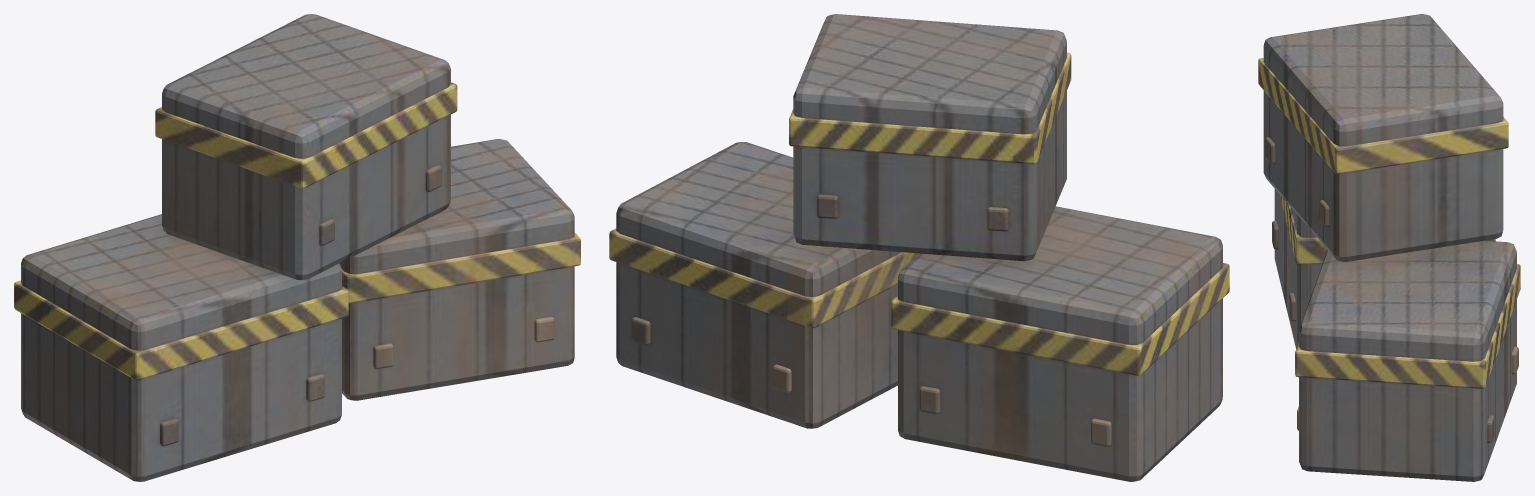
Rendered from crates.glb.
3 renders of one model, left to right at view 1: azimuth 30°, elevation 25°; view 2: azimuth 150°, elevation 25°; view 3: azimuth 270°, elevation 25°, orthographic. The views are drawn at different scales.
Parts seen in each view (by area): view 1: crates; view 2: crates; view 3: crates.
Part boxes in pixels (x1,y1,x2,y2): crates: (14,14,580,481); crates: (609,14,1229,481); crates: (1258,14,1520,481).
Bounding box in the file's own units: 1.12 × 0.682 × 0.5363.
Materials: 1 (1 with a texture image).
